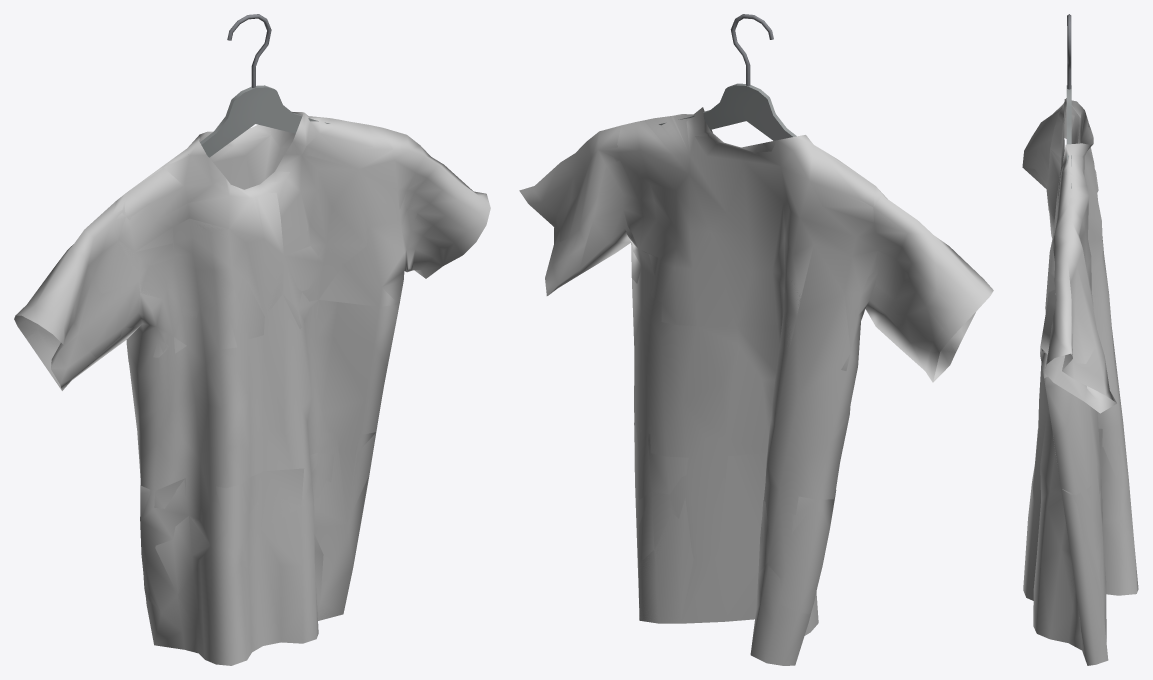
The model's file is T-Shirt.FBX.
3 views of the same model, side by side, from view 1: azimuth 30°, elevation 25°; view 2: azimuth 150°, elevation 25°; view 3: azimuth 270°, elevation 25° (orthographic). The views are drawn at different scales.
Visible parts, largest first — view 1: T-Shirt_LOD0, _Hanger-5_LOD0; view 2: T-Shirt_LOD0, _Hanger-5_LOD0; view 3: T-Shirt_LOD0, _Hanger-5_LOD0.
Boxes of the visible parts, x1,y1,x2,y2 form: T-Shirt_LOD0: (14, 112, 490, 665); _Hanger-5_LOD0: (200, 14, 329, 157); T-Shirt_LOD0: (519, 107, 993, 665); _Hanger-5_LOD0: (659, 14, 796, 140); T-Shirt_LOD0: (1022, 98, 1138, 665); _Hanger-5_LOD0: (1066, 14, 1071, 188).
Size of what is drawn, in the model's own units: 50.86 by 11.33 by 64.82.
